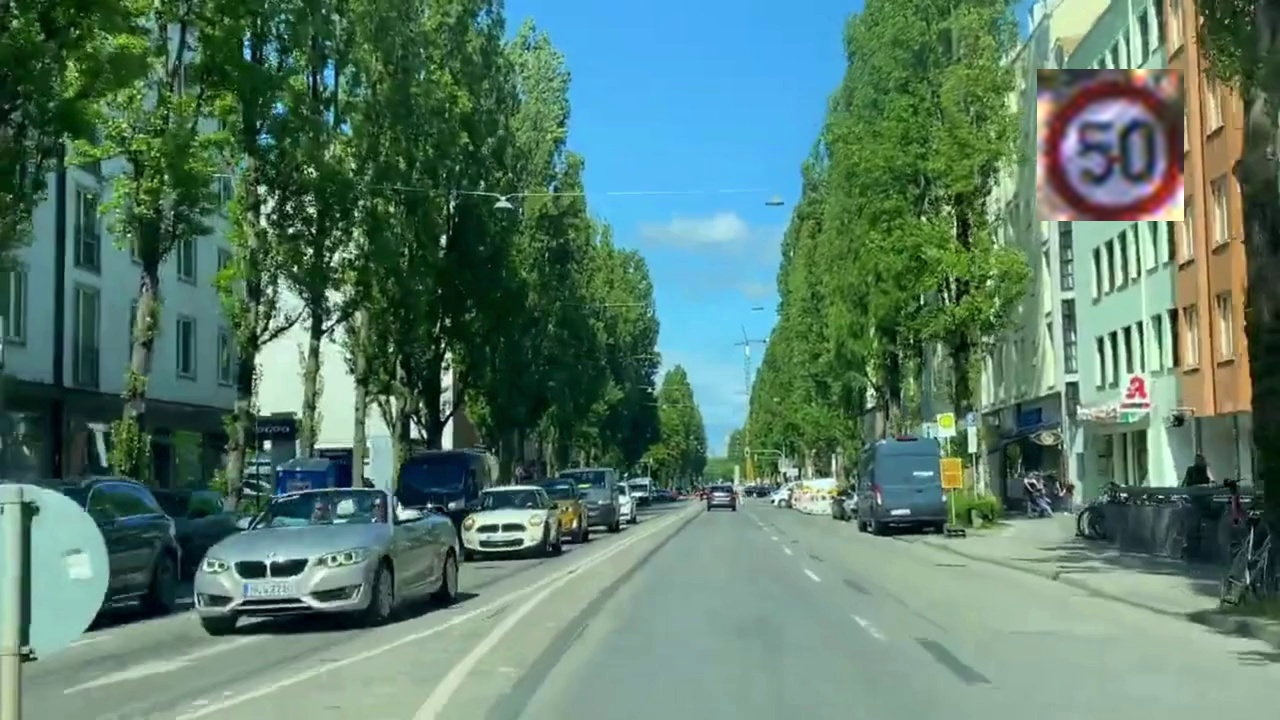Speed 50: (1037, 69, 1184, 221)
